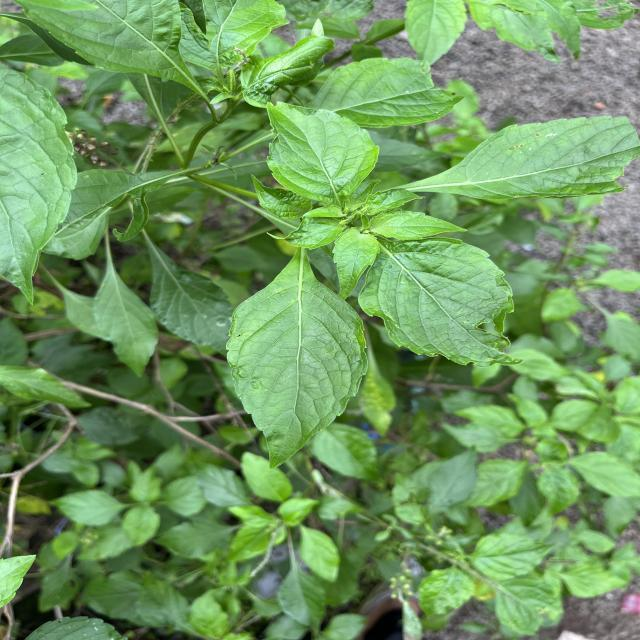Ocimum gratissimum: (222, 254, 372, 470), (357, 232, 526, 368), (394, 112, 640, 202), (1, 58, 81, 309), (15, 0, 207, 98), (262, 100, 382, 208)
